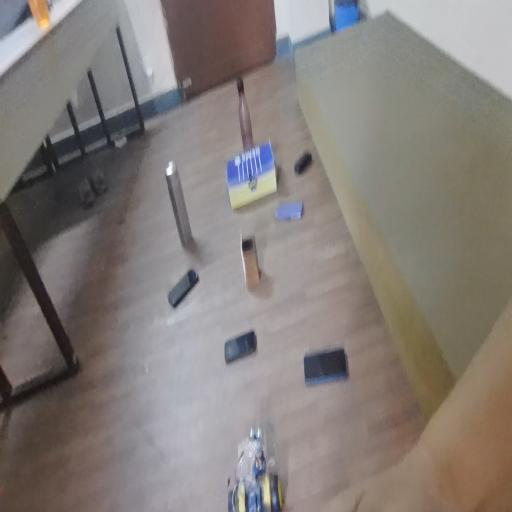Bottle: (231, 61, 255, 140)
car: (221, 434, 296, 504)
